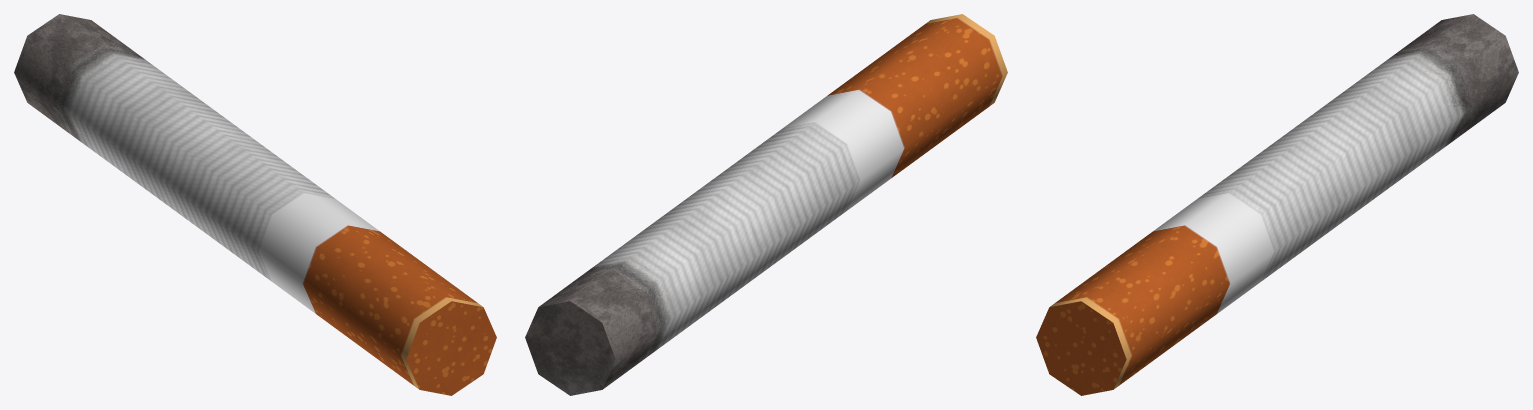
The model's file is Cigarette_A.fbx.
The picture shows the model from 3 angles, left to right: view 1: azimuth 30°, elevation 25°; view 2: azimuth 150°, elevation 25°; view 3: azimuth 330°, elevation 25°; orthographic projection.
Visible parts, largest first — view 1: Cigarette_A; view 2: Cigarette_A; view 3: Cigarette_A.
Part boxes in pixels (left/top/right/bottom): Cigarette_A: left=14, top=14, right=496, bottom=395; Cigarette_A: left=525, top=14, right=1007, bottom=395; Cigarette_A: left=1036, top=14, right=1518, bottom=395.
Size of the model in its own units: 0.8 by 0.8 by 6.
